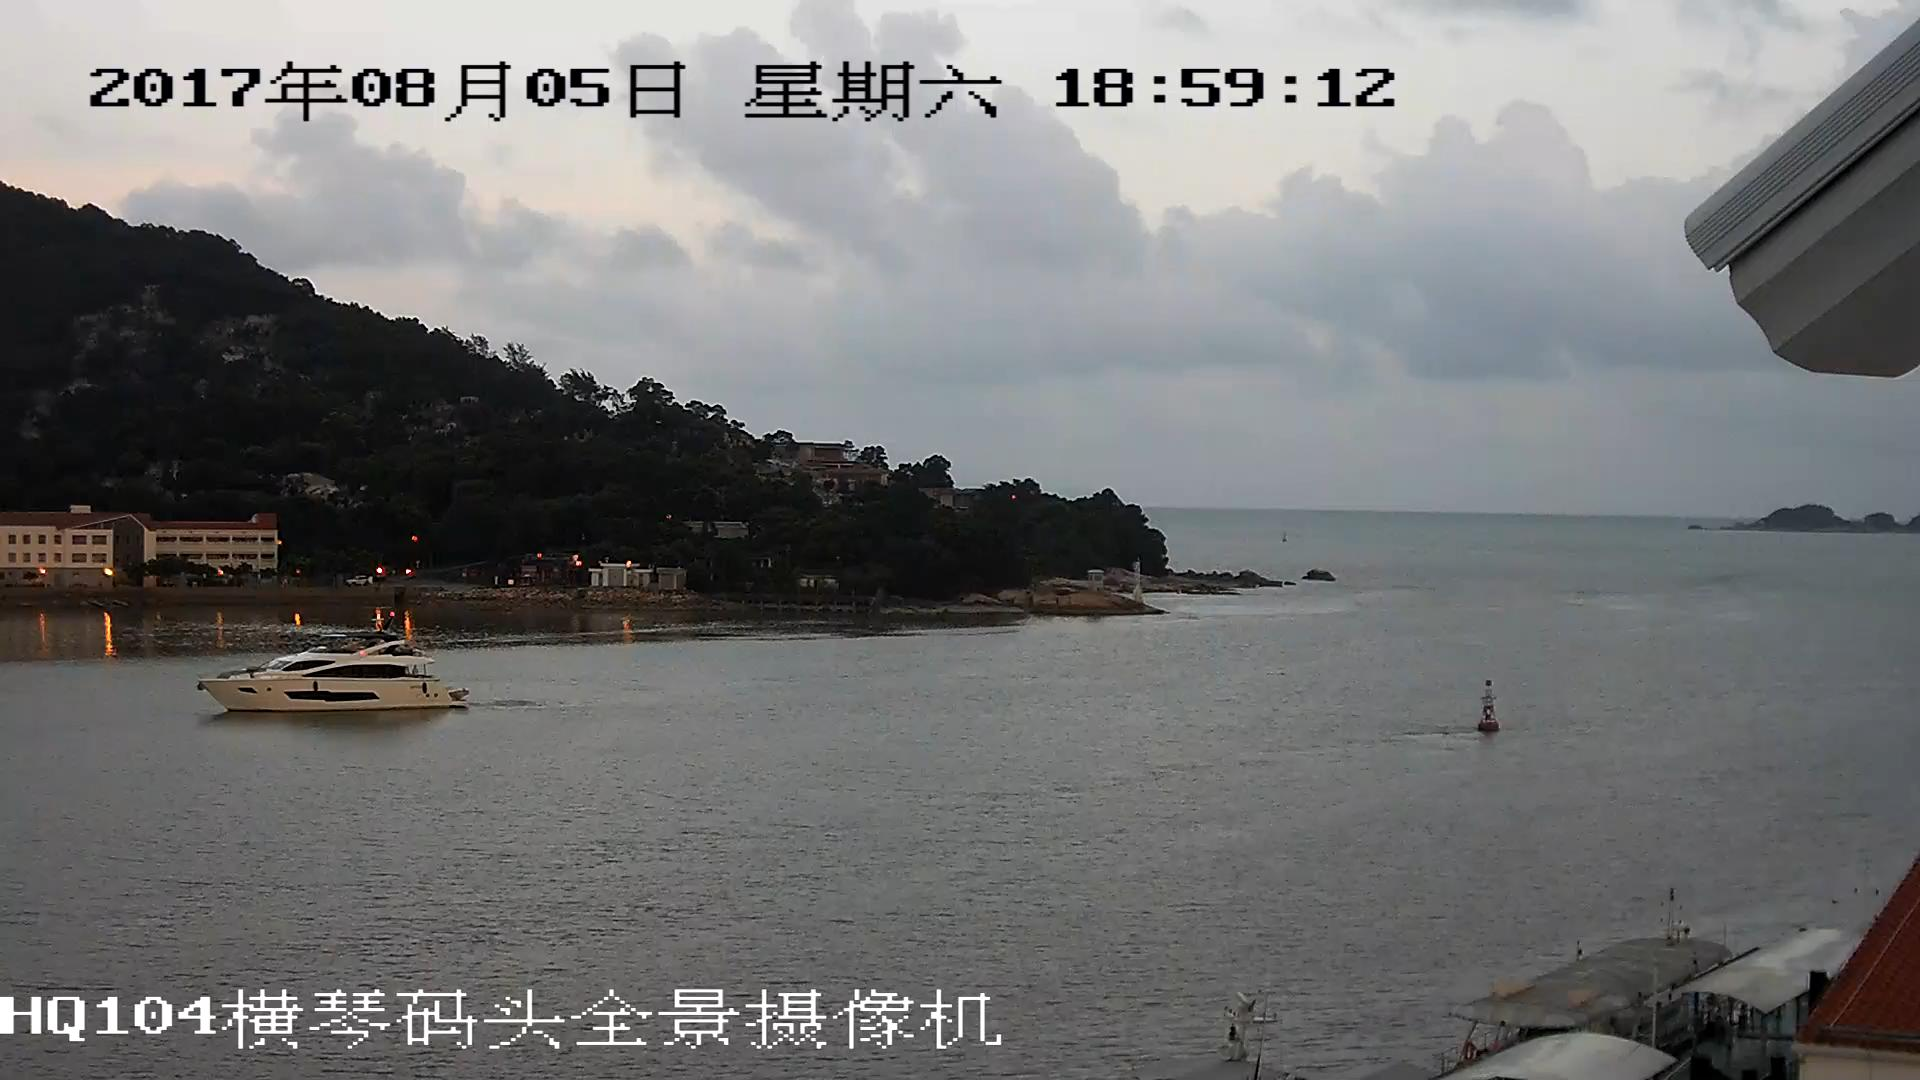passenger ship: (200, 615, 468, 711)
